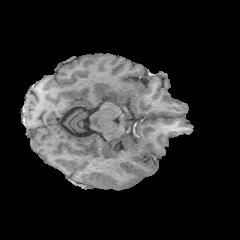glioma: (83, 161, 150, 189)
